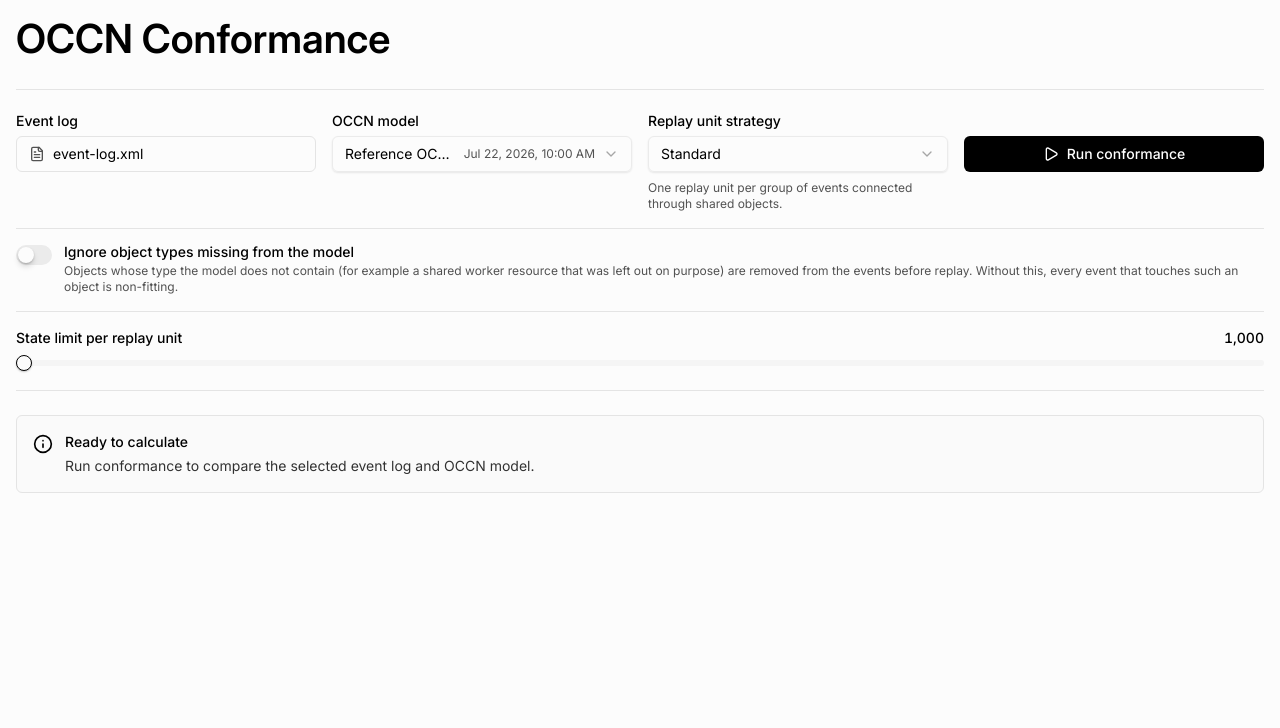
Test: OCCN conformance workflow integration › reruns a deviation immediately for a selected leading object type
The width and height of the screenshot is (1280, 728).
expect the text "Ready to calculate" is shown: met, box [65, 433, 188, 450]
What coordinates should you click on to do the following:
click the button "Run conformance"
I would click on:
 (1114, 154)
Its box is [964, 136, 1264, 172].
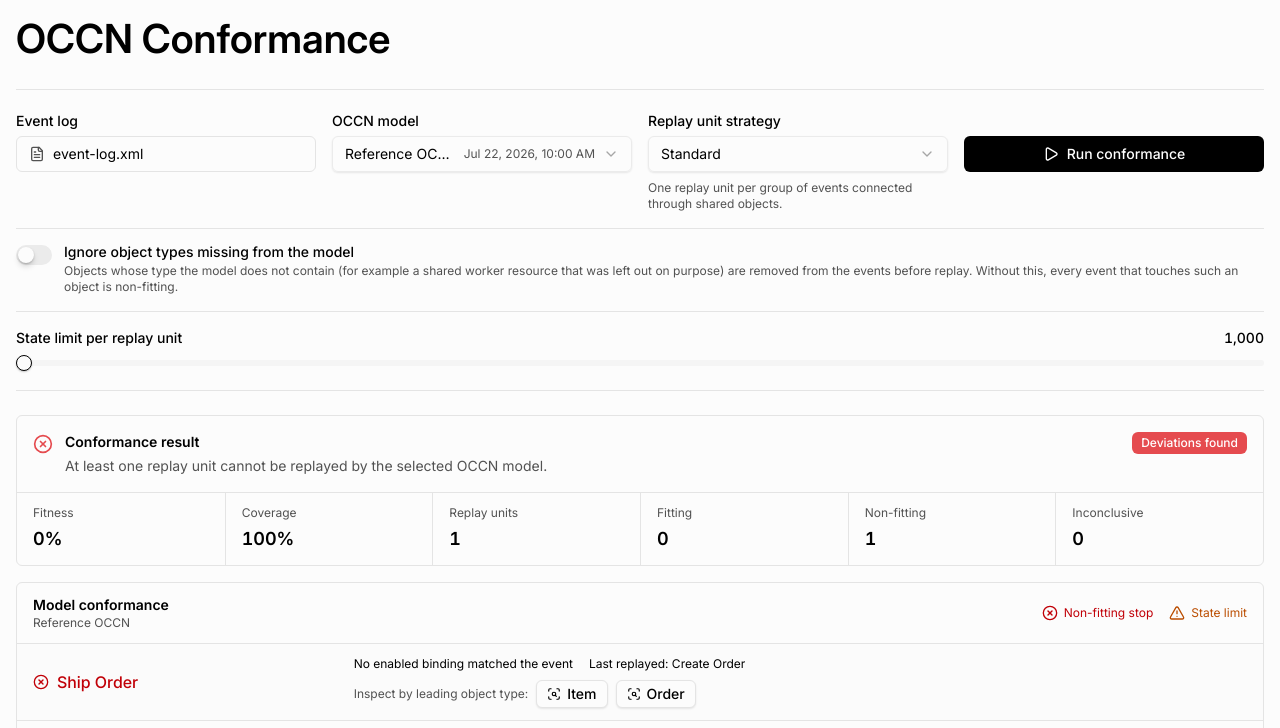
expect the text "Deviations found" is shown: met, box [1132, 432, 1247, 454]
What coordinates should you click on to do the following:
click the button "Order"
I would click on:
 (656, 694)
Its box is [616, 680, 696, 708].
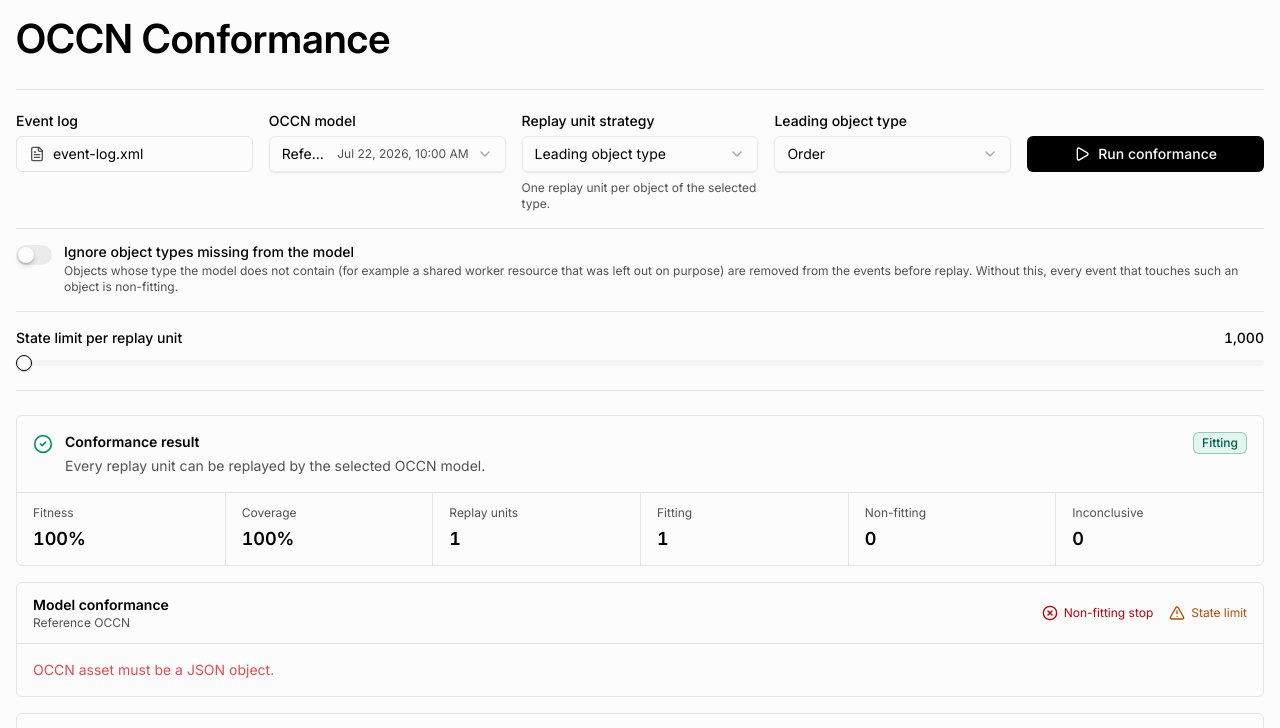
expect the dropdown named "Replay unit strategy" reads "Leading object type": met, box [522, 136, 758, 172]
